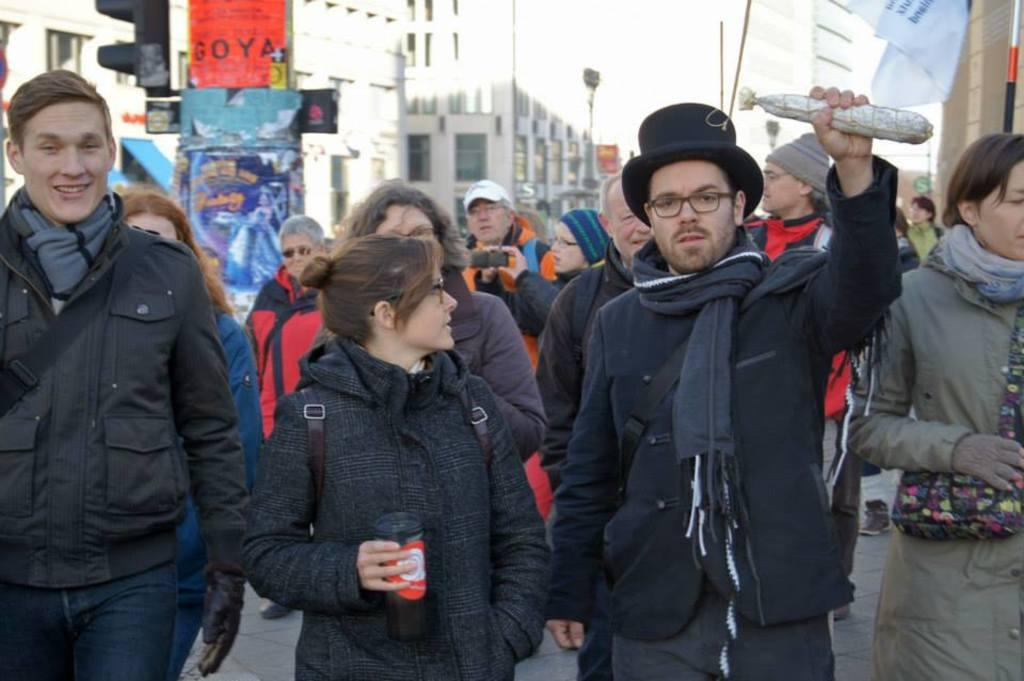Hat: (615, 100, 760, 218), (465, 176, 513, 210)
